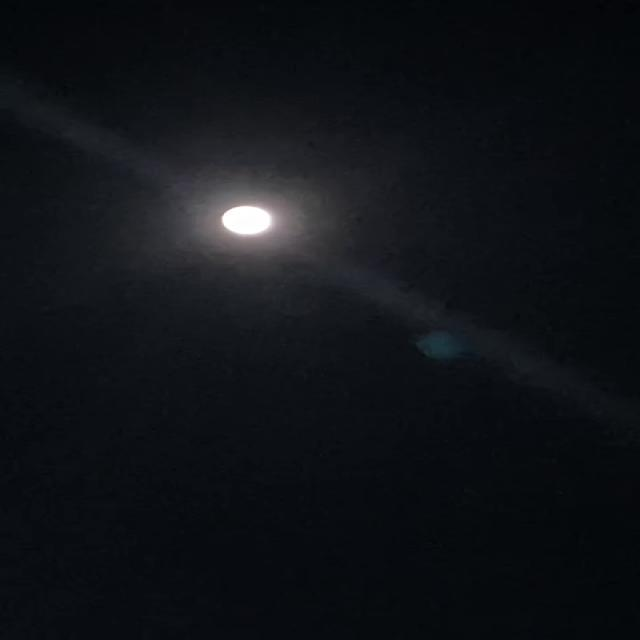moon: (201, 198, 292, 244)
